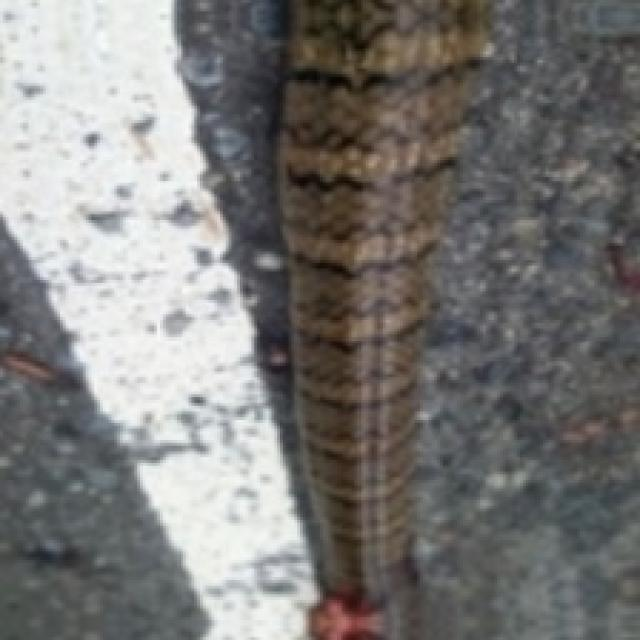king cobra: (177, 0, 486, 637)
